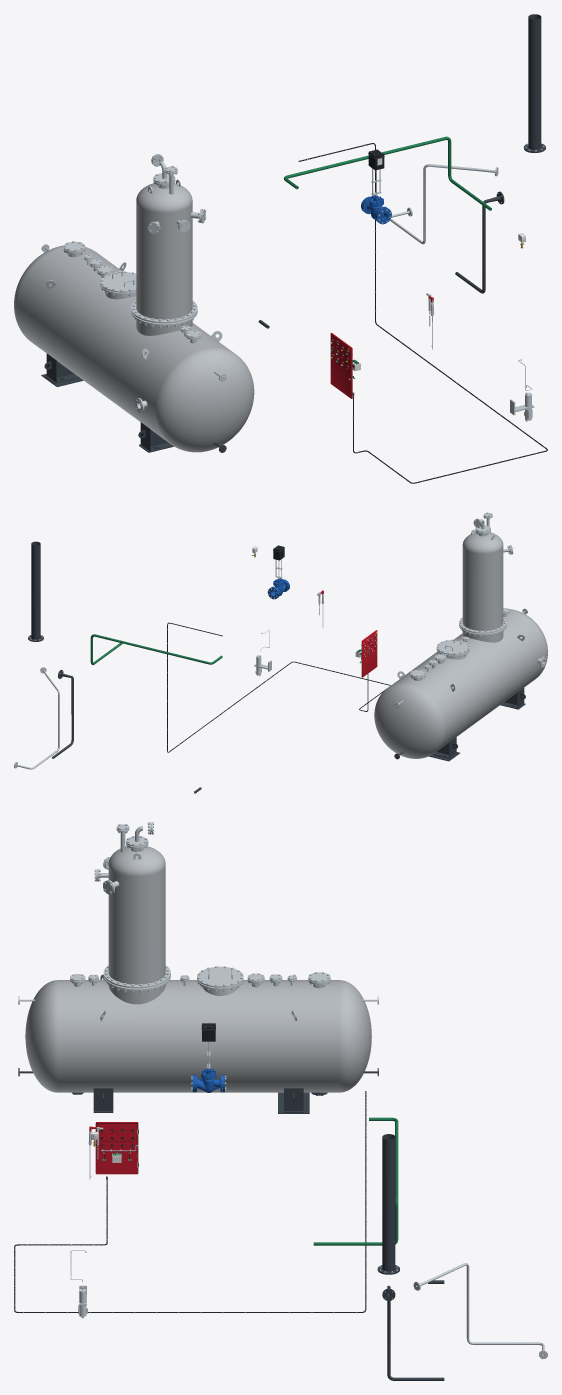
3 views of the same model, one above another, from view 1: azimuth 30°, elevation 25°; view 2: azimuth 150°, elevation 25°; view 3: azimuth 270°, elevation 25° (orthographic). The views are drawn at different scales.
Parts seen in each view (by area): view 1: deaerator CAD solid 56, deaerator CAD solid 257, bdv_vent / dark, cabinet_door / cabinet_door_5.npz, mod_eco_drive_cable / black, to_direct / green, trap_gap_to_bdv / steel, deaerator CAD solid 408, bottom_to_bdv / dark; view 2: deaerator CAD solid 56, deaerator CAD solid 257, bdv_vent / dark, mod_eco_drive_cable / black, cabinet_door / cabinet_door_5.npz, to_direct / green, deaerator CAD solid 408, trap_gap_to_bdv / steel; view 3: deaerator CAD solid 56, deaerator CAD solid 257, cabinet_door / cabinet_door_5.npz, bdv_vent / dark, mod_eco_drive_cable / black, to_direct / green, trap_gap_to_bdv / steel, deaerator CAD solid 408, bottom_to_bdv / dark.
Boxes of the visible parts, <box> form: deaerator CAD solid 56: <box>14,245,254,452</box>; deaerator CAD solid 257: <box>136,183,192,319</box>; bdv_vent / dark: <box>523,14,545,152</box>; cabinet_door / cabinet_door_5.npz: <box>330,333,352,398</box>; mod_eco_drive_cable / black: <box>298,143,547,483</box>; to_direct / green: <box>283,136,491,210</box>; trap_gap_to_bdv / steel: <box>390,164,498,244</box>; deaerator CAD solid 408: <box>100,272,136,292</box>; bottom_to_bdv / dark: <box>455,191,504,293</box>; deaerator CAD solid 56: <box>374,609,547,758</box>; deaerator CAD solid 257: <box>462,532,503,630</box>; bdv_vent / dark: <box>28,541,43,641</box>; mod_eco_drive_cable / black: <box>167,622,390,752</box>; cabinet_door / cabinet_door_5.npz: <box>361,630,377,677</box>; to_direct / green: <box>90,634,222,664</box>; deaerator CAD solid 408: <box>436,640,469,654</box>; trap_gap_to_bdv / steel: <box>14,667,59,769</box>; deaerator CAD solid 56: <box>25,980,371,1092</box>; deaerator CAD solid 257: <box>108,846,165,984</box>; cabinet_door / cabinet_door_5.npz: <box>95,1122,138,1174</box>; bdv_vent / dark: <box>377,1134,399,1274</box>; mod_eco_drive_cable / black: <box>14,1091,366,1312</box>; to_direct / green: <box>313,1117,398,1245</box>; trap_gap_to_bdv / steel: <box>413,1263,547,1359</box>; deaerator CAD solid 408: <box>197,966,243,987</box>; bottom_to_bdv / dark: <box>382,1285,444,1380</box>.
Bounding box in the file's own units: 8.25 × 4.72 × 6.74.
